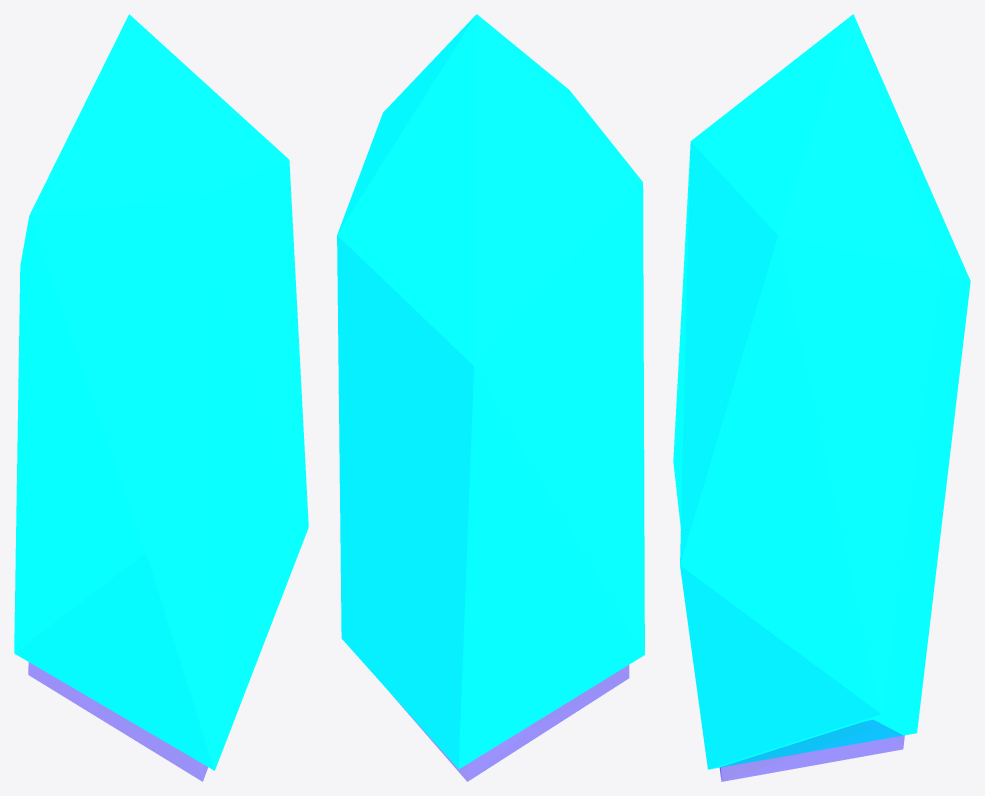
Rendered from Dream3_Crystal_withCover.glb.
3 views of the same model, side by side, from view 1: azimuth 30°, elevation 25°; view 2: azimuth 150°, elevation 25°; view 3: azimuth 270°, elevation 25° (orthographic). The views are drawn at different scales.
Visible parts, largest first — view 1: Giant_Eye_Aura, Giant_Crystal; view 2: Giant_Eye_Aura, Giant_Crystal; view 3: Giant_Eye_Aura, Giant_Crystal.
Part boxes in pixels (x1=…): Giant_Eye_Aura: x1=14, y1=14, x2=308, y2=770; Giant_Crystal: x1=28, y1=662, x2=207, y2=781; Giant_Eye_Aura: x1=337, y1=14, x2=644, y2=769; Giant_Crystal: x1=397, y1=665, x2=628, y2=781; Giant_Eye_Aura: x1=673, y1=14, x2=970, y2=769; Giant_Crystal: x1=720, y1=720, x2=904, y2=781.
Size of the model in its own units: 1.86 by 4.93 by 1.74.
